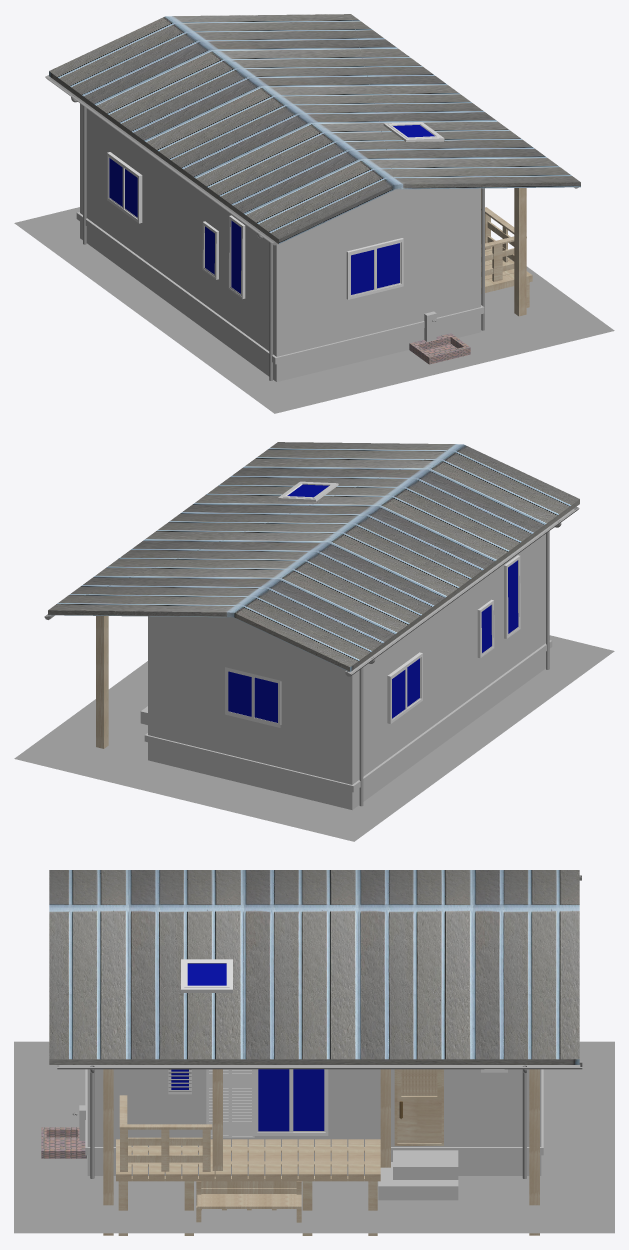
The model's file is ie13_mid.fbx.
3 renders of one model, top to bottom at view 1: azimuth 30°, elevation 25°; view 2: azimuth 150°, elevation 25°; view 3: azimuth 270°, elevation 25°, orthographic. The views are drawn at different scales.
Visible parts, largest first — view 1: polySurface492; view 2: polySurface492; view 3: polySurface492.
Boxes of the visible parts, left/top/right/bottom form: polySurface492: left=14, top=14, right=614, bottom=413; polySurface492: left=14, top=442, right=614, bottom=841; polySurface492: left=14, top=870, right=614, bottom=1235.
Bounding box in the file's own units: 999 × 592 × 1325.
